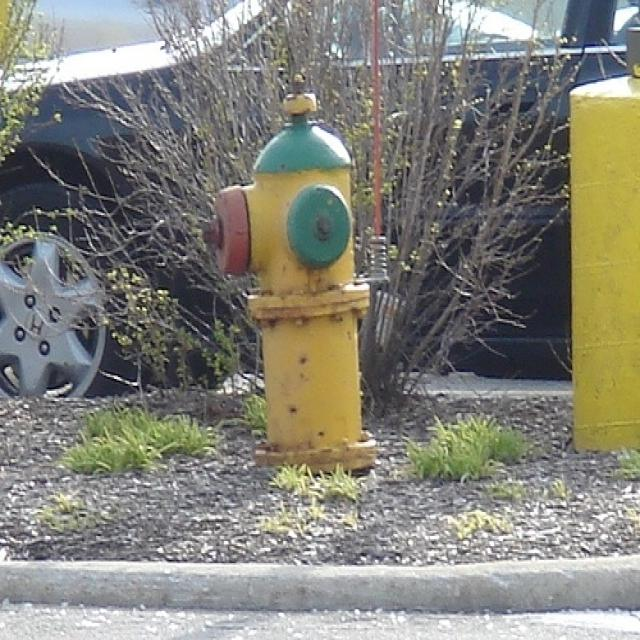fire_hydrant: (179, 87, 428, 500)
